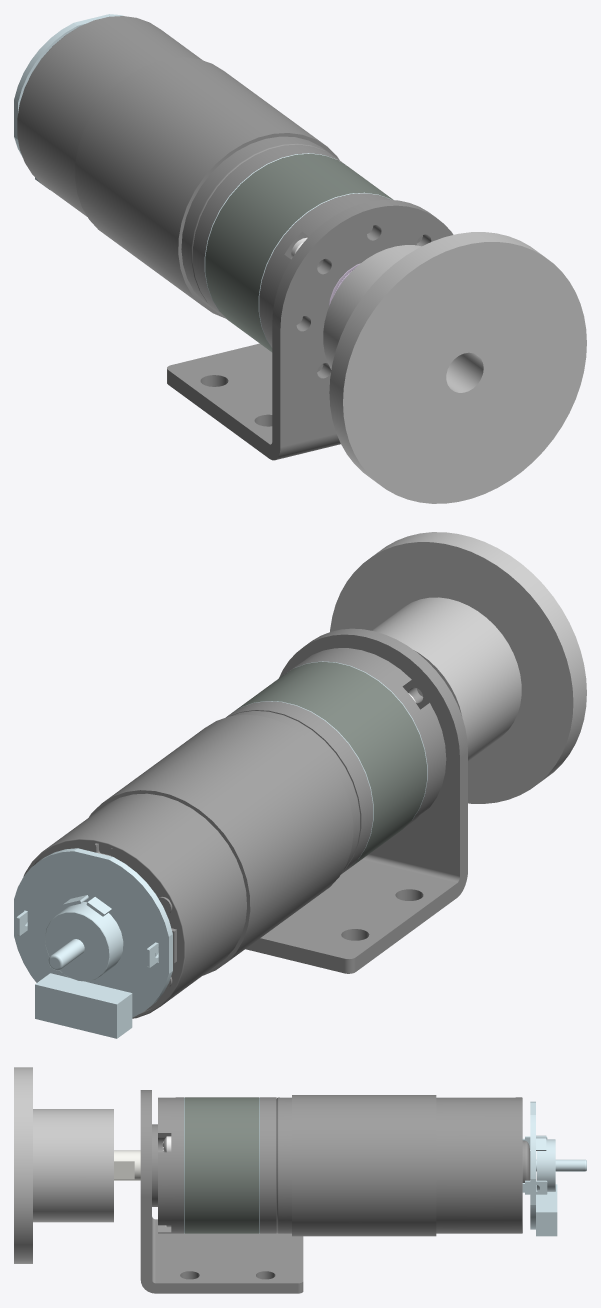
File: dianji.glb
3 views of the same model, one above another, from view 1: azimuth 30°, elevation 25°; view 2: azimuth 150°, elevation 25°; view 3: azimuth 270°, elevation 25° (orthographic). The views are drawn at different scales.
Visible parts, largest first — view 1: 实体1.002, 实体1, 实体1.001; view 2: 实体1.002, 实体1, 实体1.001; view 3: 实体1.002, 实体1, 实体1.001.
Part boxes in pixels (<box>): 实体1.002: <box>14,14,422,371</box>; 实体1: <box>323,232,586,503</box>; 实体1.001: <box>167,199,453,460</box>; 实体1.002: <box>14,648,446,1038</box>; 实体1: <box>330,532,586,803</box>; 实体1.001: <box>245,628,467,973</box>; 实体1.002: <box>114,1095,586,1236</box>; 实体1: <box>14,1067,113,1263</box>; 实体1.001: <box>140,1090,303,1293</box>.
Size of the model in its own units: 52 by 53.96 by 151.
